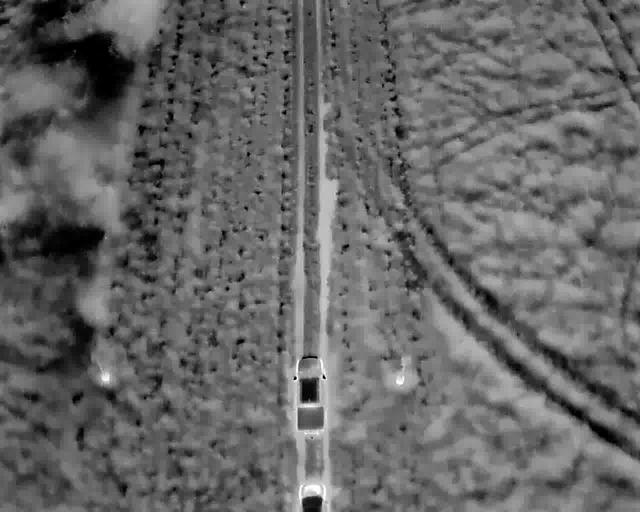car: (294, 286, 329, 359), (299, 404, 329, 469)
